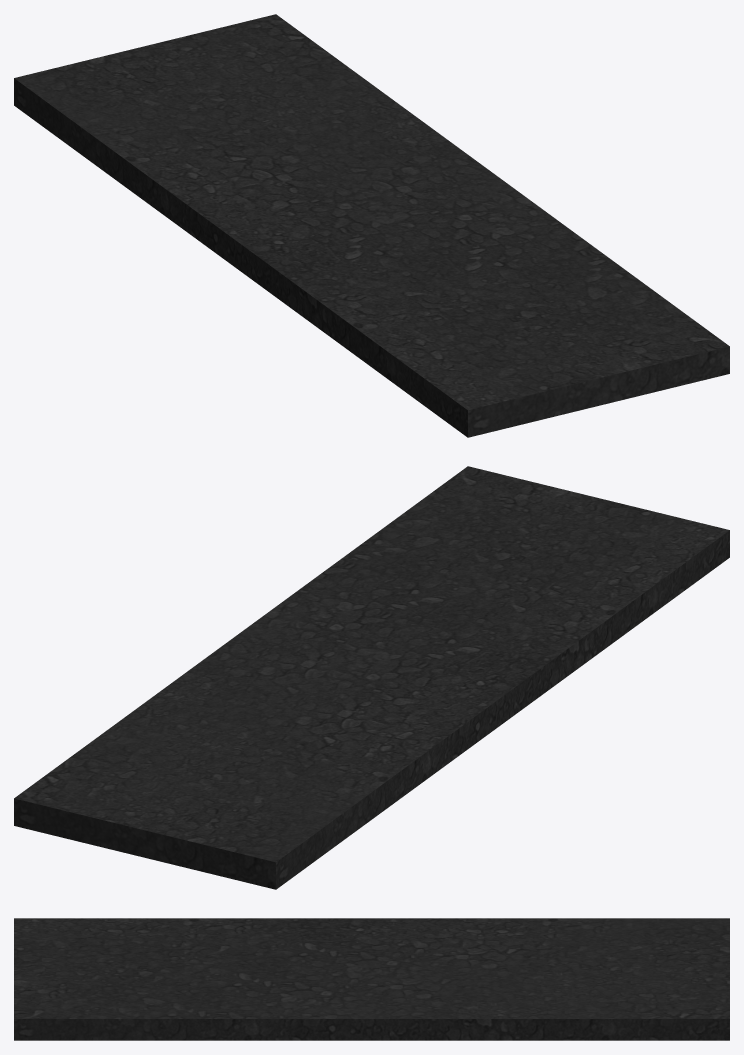
Rendered from roof_flat_1x3m.fbx.
3 renders of one model, top to bottom at view 1: azimuth 30°, elevation 25°; view 2: azimuth 150°, elevation 25°; view 3: azimuth 270°, elevation 25°, orthographic. The views are drawn at different scales.
Parts seen in each view (by area): view 1: roof_flat_1x3m; view 2: roof_flat_1x3m; view 3: roof_flat_1x3m.
Part boxes in pixels (x1,y1,x2,y2): roof_flat_1x3m: (14, 14, 729, 437); roof_flat_1x3m: (14, 466, 729, 889); roof_flat_1x3m: (14, 918, 729, 1040).
Size of the model in its own units: 100 by 10 by 300.
